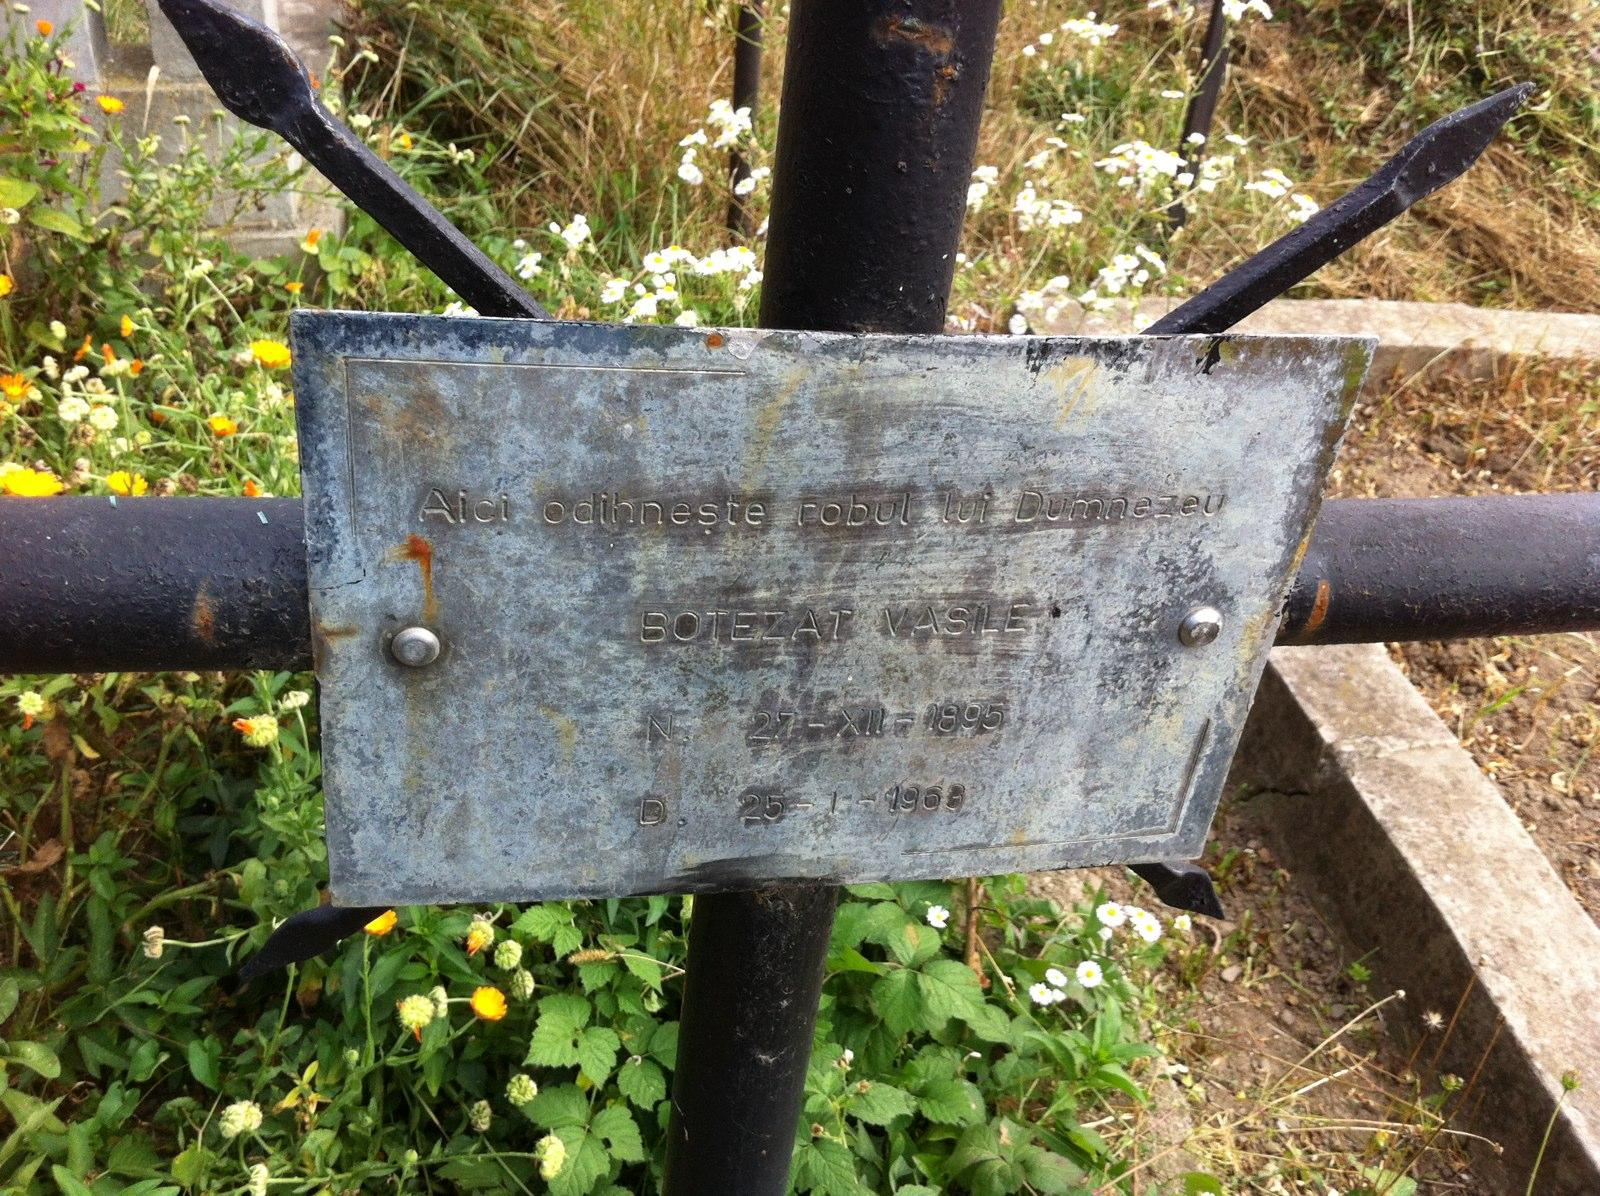plaque: (229, 172, 1402, 942)
